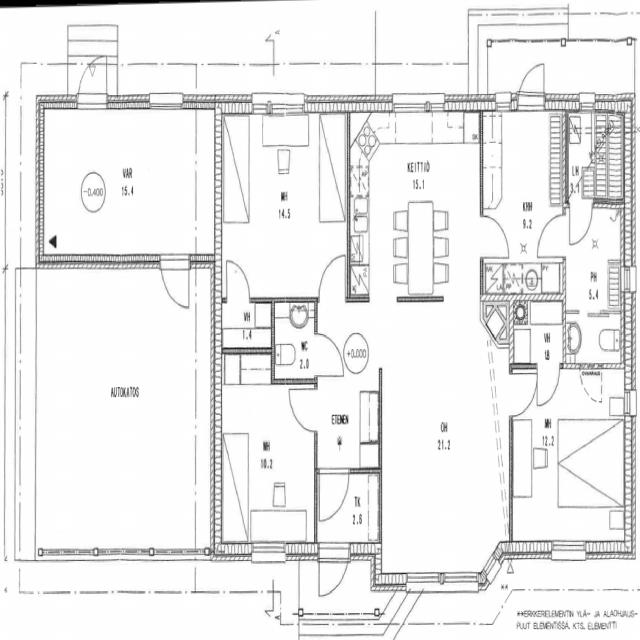door: (319, 543, 348, 610), (78, 48, 106, 109), (162, 254, 189, 314), (319, 469, 348, 521), (519, 53, 544, 112), (320, 254, 346, 302), (289, 389, 318, 430), (509, 375, 538, 415), (480, 216, 508, 257), (314, 334, 342, 374), (538, 216, 566, 256), (570, 202, 592, 244), (537, 363, 559, 404), (228, 261, 248, 302)
